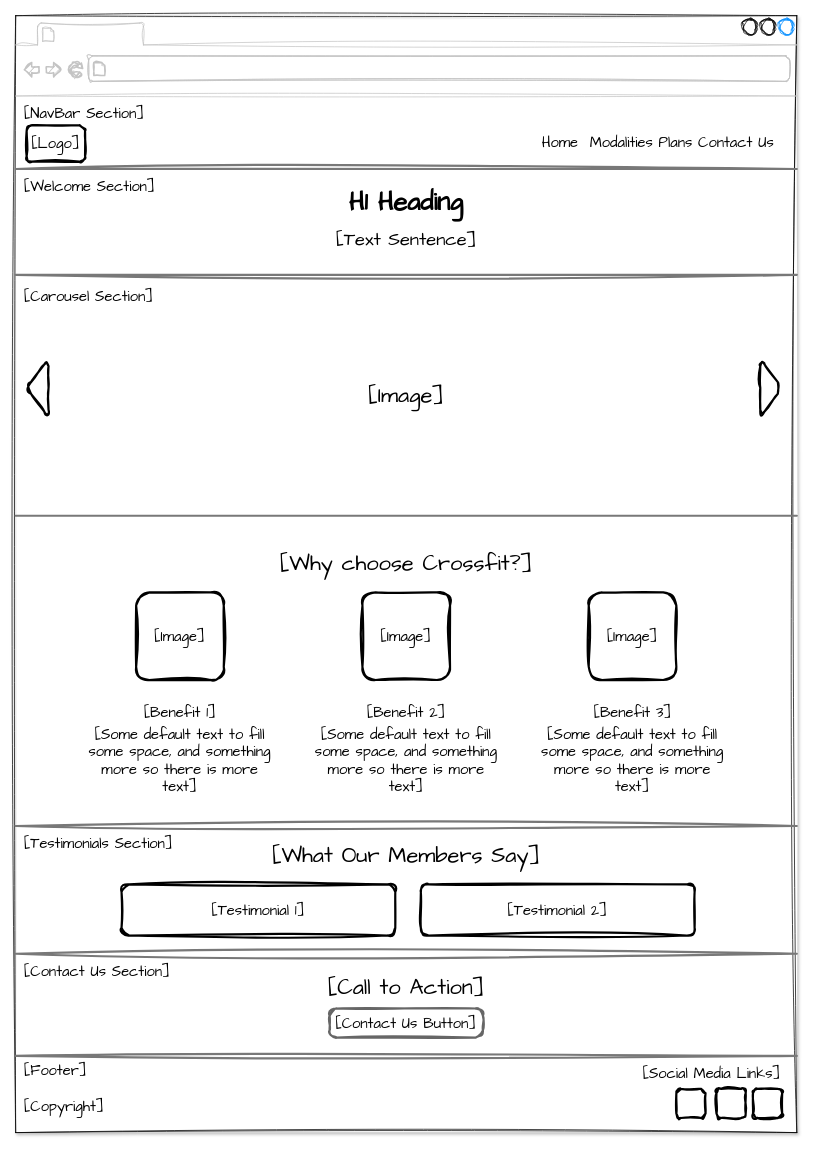
Image size: 814x1150. Some labels were removed from this diagram. Here are the shapes that lost their labels. From the top down, the centre of each, then its label:
At (99,33): "Crossfit".
At (201,68): "https://www.default.com".
At (406,515): "[Benefits Section]".
